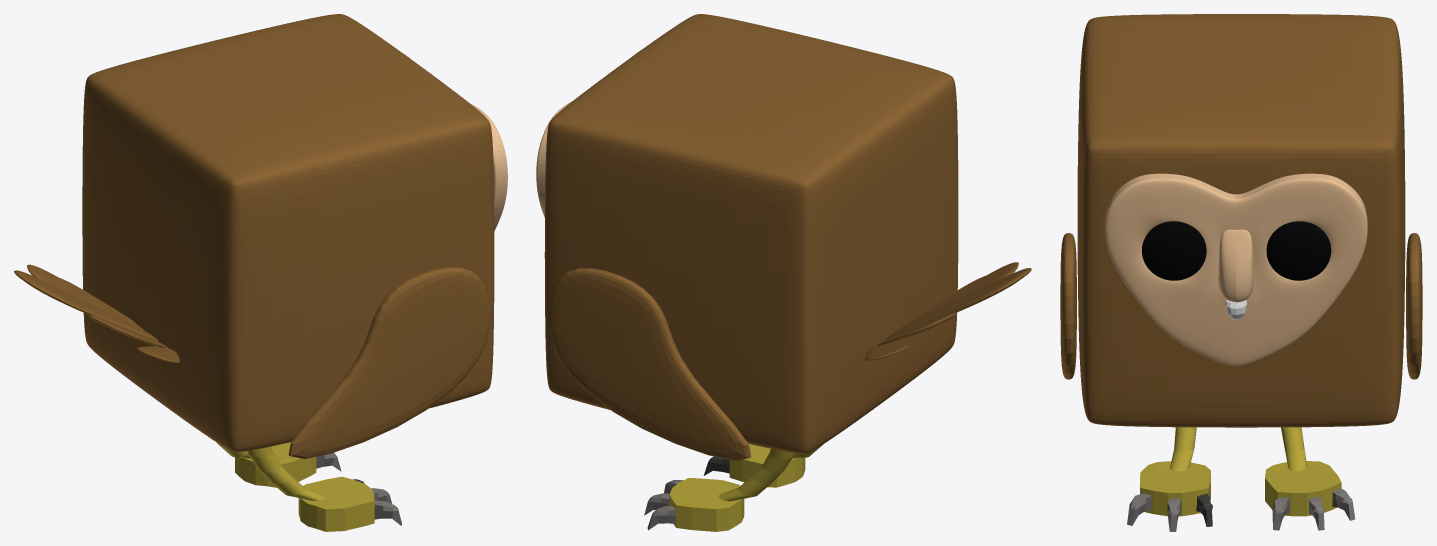
Rendered from owl_object.fbx.
3 renders of one model, left to right at view 1: azimuth 30°, elevation 25°; view 2: azimuth 150°, elevation 25°; view 3: azimuth 270°, elevation 25°, orthographic. The views are drawn at different scales.
Visible parts, largest first — view 1: body, Wings.001, Upper leg.001, Upper leg, tail, tail.003, Head, tail.004; view 2: body, Wings, Upper leg, Upper leg.001, tail, tail.003, Head, tail.004; view 3: body, Head, eyes, Upper leg, Upper leg.001, Wings, Wings.001.
Boxes of the visible parts, x1,y1,x2,y2 form: body: (82, 14, 494, 451); Wings.001: (288, 267, 490, 458); Upper leg.001: (247, 446, 401, 531); Upper leg: (216, 442, 341, 487); tail: (14, 270, 158, 341); tail.003: (27, 264, 167, 347); Head: (404, 54, 507, 230); tail.004: (60, 278, 179, 362); body: (544, 14, 958, 453); Wings: (549, 268, 751, 460); Upper leg: (644, 448, 794, 531); Upper leg.001: (703, 444, 822, 487); tail: (886, 268, 1031, 339); tail.003: (877, 262, 1018, 345); Head: (536, 50, 640, 217); tail.004: (865, 276, 984, 360); body: (1077, 14, 1405, 427); Head: (1105, 173, 1367, 365); eyes: (1142, 221, 1331, 280); Upper leg: (1265, 427, 1355, 530); Upper leg.001: (1127, 427, 1212, 531); Wings: (1406, 233, 1422, 379); Wings.001: (1060, 233, 1076, 379).
Size of the model in its own units: 159 by 142 by 110.
